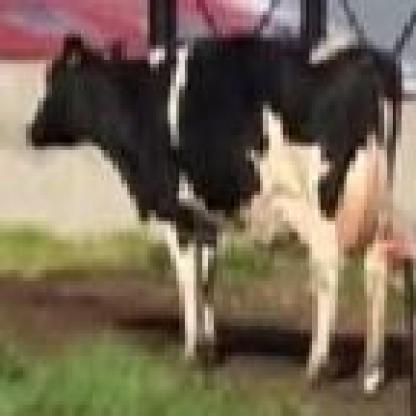cow: (25, 41, 400, 394)
